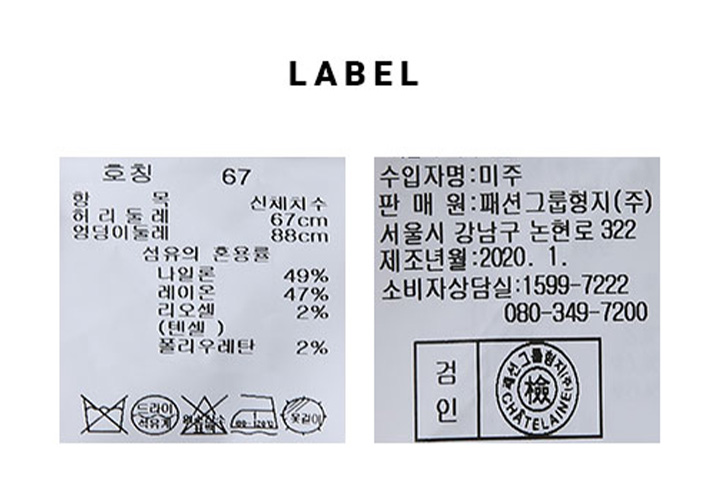KR_dry_clean_petroleum: (130, 394, 181, 440)
KR_hang_dry_in_shade: (281, 392, 329, 436)
KR_iron_low_temp_with_cloth: (230, 388, 279, 437)
KR_no_bleach: (180, 391, 229, 438)
KR_no_wash: (78, 390, 129, 440)
